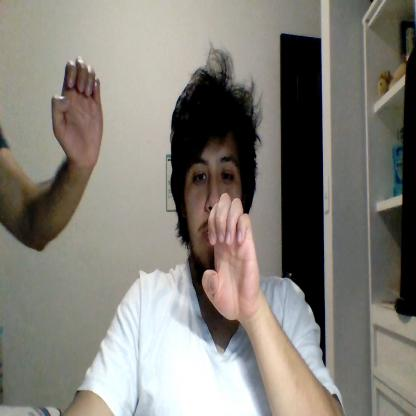E: (201, 192, 260, 321), (51, 56, 104, 166)
